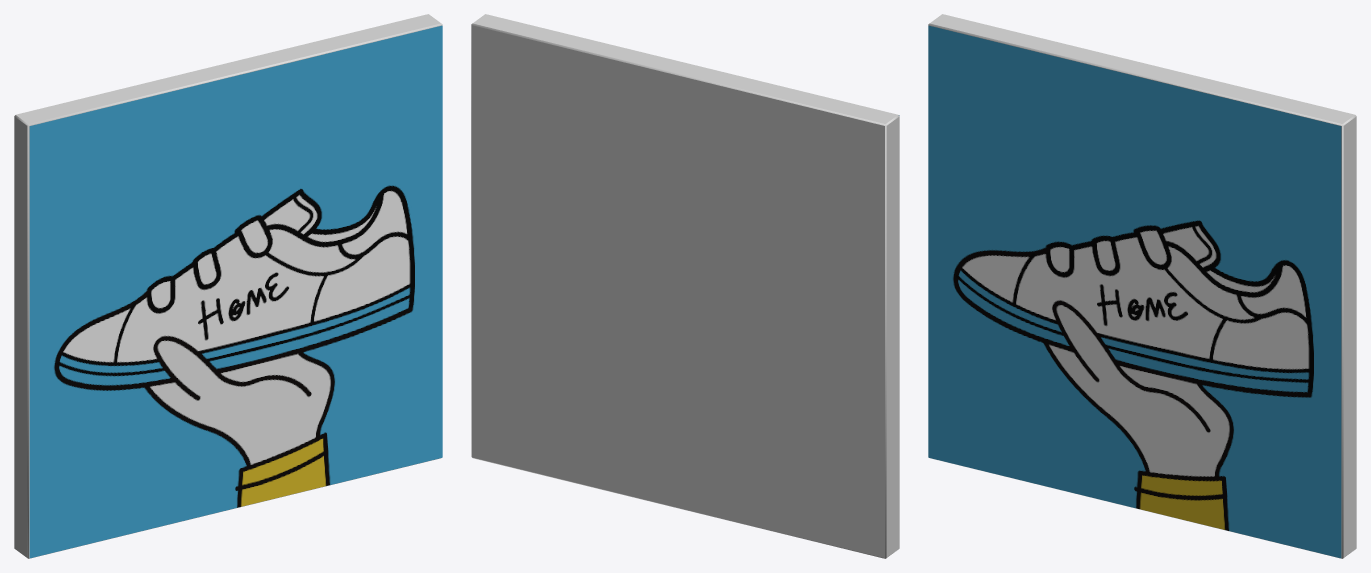
The model's file is room11.glb.
3 views of the same model, side by side, from view 1: azimuth 30°, elevation 25°; view 2: azimuth 150°, elevation 25°; view 3: azimuth 330°, elevation 25° (orthographic).
Parts seen in each view (by area): view 1: tex, board; view 2: board; view 3: tex, board.
Part boxes in pixels (<box>): tex: <box>29,25,442,558</box>; board: <box>14,14,442,558</box>; board: <box>471,14,899,558</box>; tex: <box>928,25,1341,558</box>; board: <box>928,14,1356,558</box>.
Size of the model in its own units: 0.335 by 0.335 by 0.0205.
2 materials, 1 textured.
